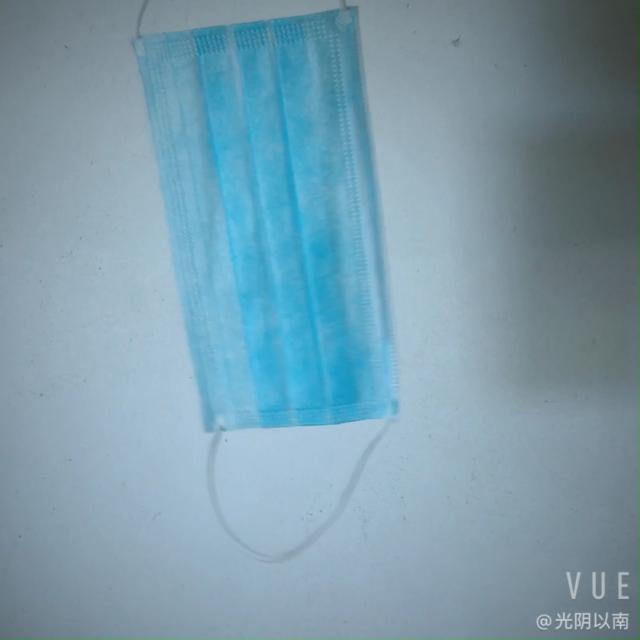face mask: (115, 4, 397, 443)
